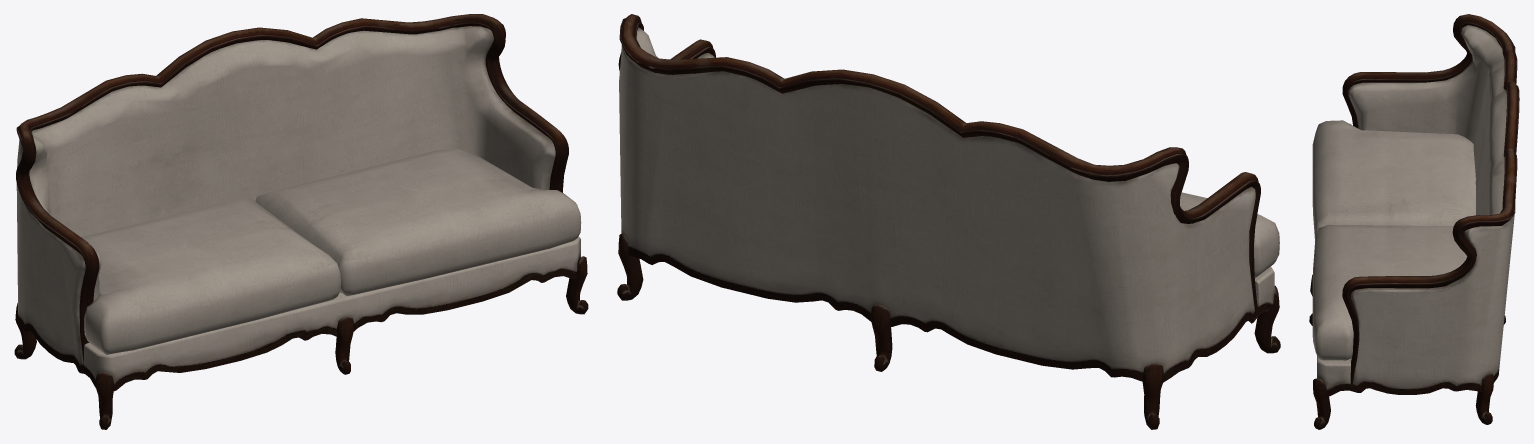
Rendered from Sofa_01.glb.
3 views of the same model, side by side, from view 1: azimuth 30°, elevation 25°; view 2: azimuth 150°, elevation 25°; view 3: azimuth 270°, elevation 25° (orthographic). The views are drawn at different scales.
Parts seen in each view (by area): view 1: Sofa_01; view 2: Sofa_01; view 3: Sofa_01.
Boxes of the visible parts, left/top/right/bottom form: Sofa_01: left=14, top=14, right=588, bottom=429; Sofa_01: left=617, top=14, right=1280, bottom=429; Sofa_01: left=1309, top=14, right=1519, bottom=429.
Bounding box in the file's own units: 1.57 × 0.7966 × 0.658.
1 material, 1 textured.
